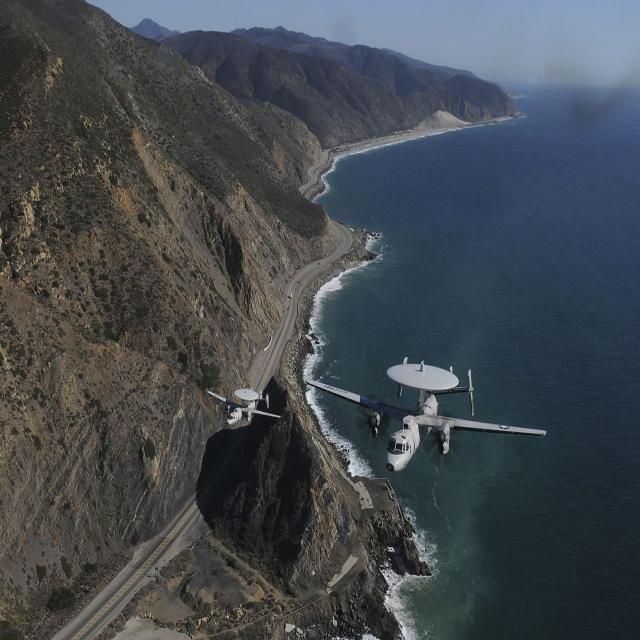MIL_Plane: (306, 356, 546, 474), (207, 386, 281, 427)
